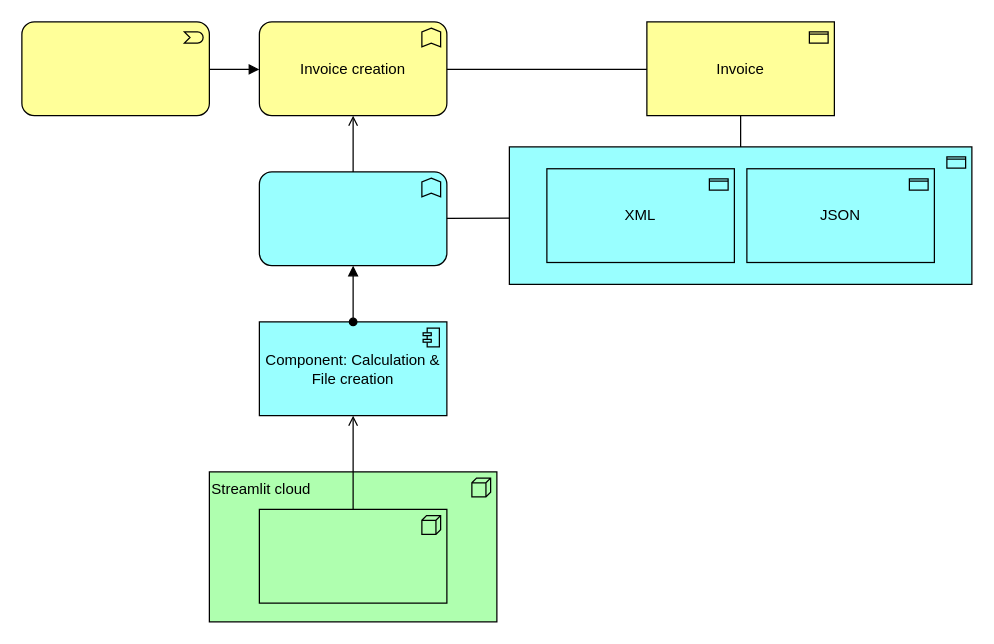
Some shapes in this 994 by 644 pixel diagram are drawn without their labels. The centre of each missing label's shape, as x and y in pixels:
Application server: (x=352, y=555)
Billing: (x=352, y=218)
Purchase to be billed: (x=115, y=68)
